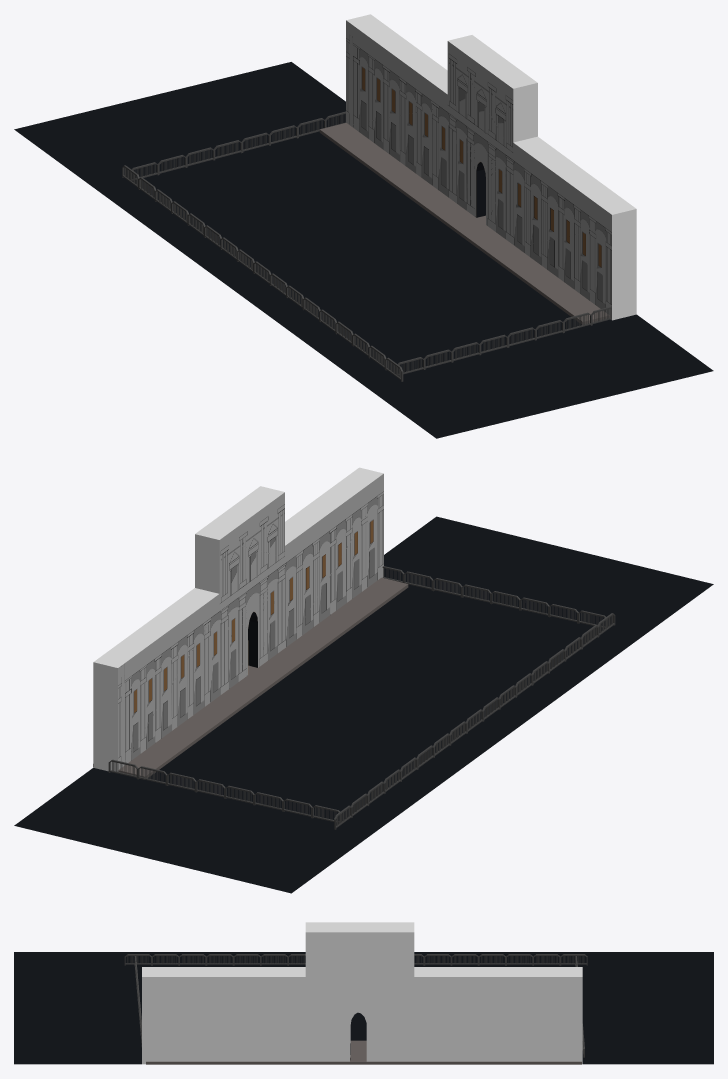
File: MonedaPatio.fbx
3 renders of one model, top to bottom at view 1: azimuth 30°, elevation 25°; view 2: azimuth 150°, elevation 25°; view 3: azimuth 270°, elevation 25°, orthographic. The views are drawn at different scales.
Visible parts, largest first — view 1: Plane, Cube.002, Cube.001, Cylinder.001, Cylinder.002, Cylinder; view 2: Plane, Cube.002, Cube.001, Cylinder.001, Cylinder, Cylinder.002; view 3: Cube.002, Plane, Cylinder.001, Cube.001.
Boxes of the visible parts, x1=… form: Plane: x1=14, y1=62, x2=713, y2=438; Cube.002: x1=346, y1=14, x2=636, y2=320; Cube.001: x1=319, y1=123, x2=609, y2=324; Cylinder.001: x1=122, y1=165, x2=403, y2=381; Cylinder.002: x1=396, y1=306, x2=611, y2=375; Cylinder: x1=130, y1=111, x2=345, y2=180; Plane: x1=14, y1=516, x2=713, y2=893; Cube.002: x1=93, y1=467, x2=383, y2=771; Cube.001: x1=93, y1=577, x2=408, y2=779; Cylinder.001: x1=334, y1=613, x2=615, y2=829; Cylinder: x1=108, y1=759, x2=341, y2=822; Cylinder.002: x1=382, y1=566, x2=607, y2=628; Cube.002: x1=142, y1=922, x2=582, y2=1064; Plane: x1=14, y1=952, x2=713, y2=1064; Cylinder.001: x1=124, y1=954, x2=587, y2=965; Cube.001: x1=146, y1=1040, x2=581, y2=1064.
Bounding box in the file's own units: 1064 × 582 × 2797.
Materials: 5 (1 with a texture image).
